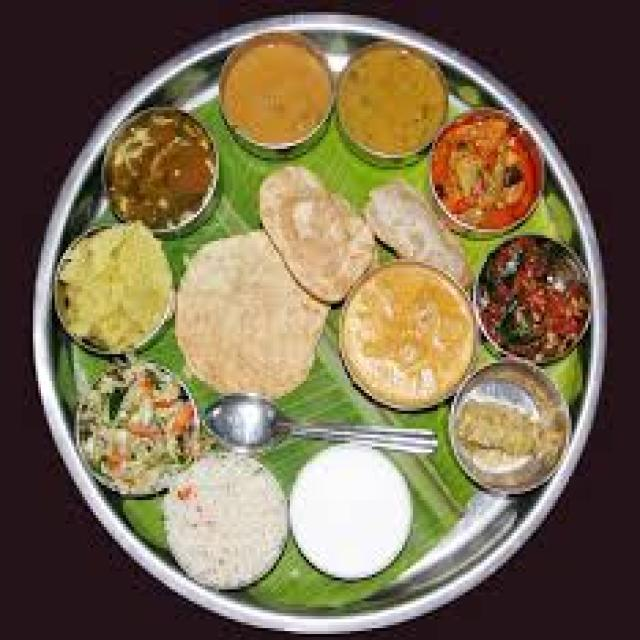curd: (285, 451, 417, 581)
papad: (168, 243, 322, 387), (52, 227, 174, 353)
rice: (286, 454, 418, 583)
sambar-rasam: (211, 20, 336, 151)
sweet: (452, 372, 570, 480)
veg-fry: (334, 273, 473, 407), (70, 363, 203, 498), (155, 454, 286, 591), (423, 109, 548, 230), (335, 37, 453, 160)
